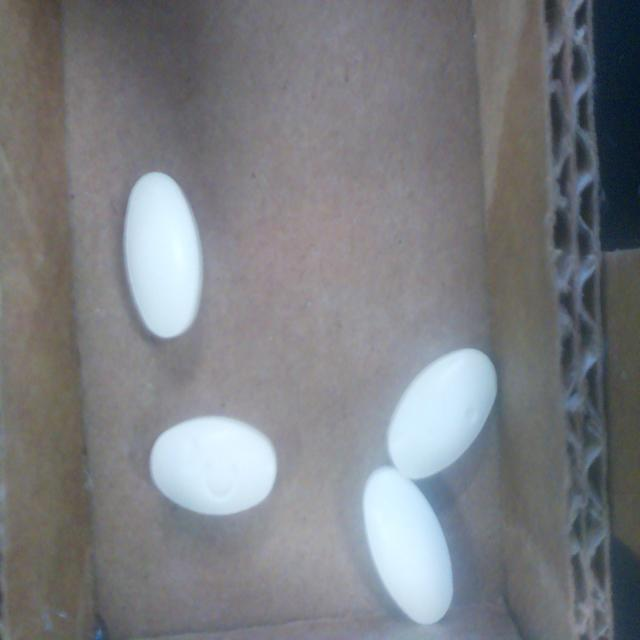pill: (387, 348, 497, 480), (363, 466, 453, 624), (123, 172, 203, 339), (150, 416, 277, 516)
